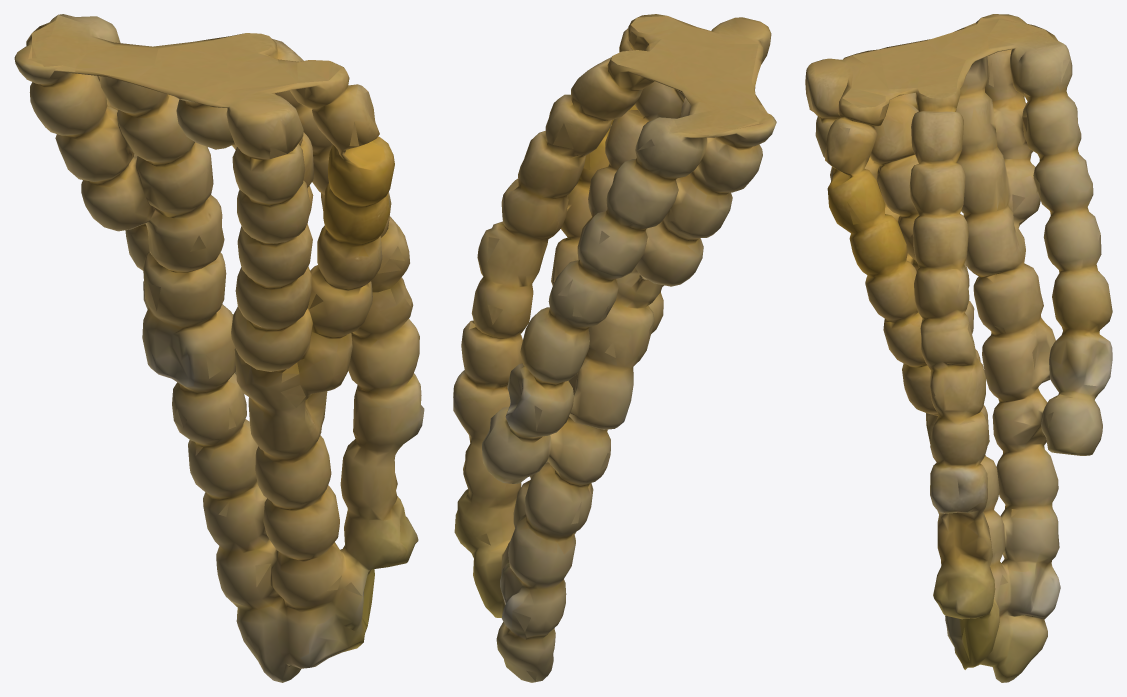
File: huevos_hamadryas.fbx
3 renders of one model, left to right at view 1: azimuth 30°, elevation 25°; view 2: azimuth 150°, elevation 25°; view 3: azimuth 270°, elevation 25°, orthographic. The views are drawn at different scales.
Visible parts, largest first — view 1: tripo_node_09ae83aa; view 2: tripo_node_09ae83aa; view 3: tripo_node_09ae83aa.
Boxes of the visible parts, left/top/right/bottom form: tripo_node_09ae83aa: left=14, top=14, right=424, bottom=682; tripo_node_09ae83aa: left=453, top=14, right=776, bottom=682; tripo_node_09ae83aa: left=805, top=14, right=1112, bottom=682.
Bounding box in the file's own units: 0.569 × 1 × 0.4956.
1 material, 1 textured.
